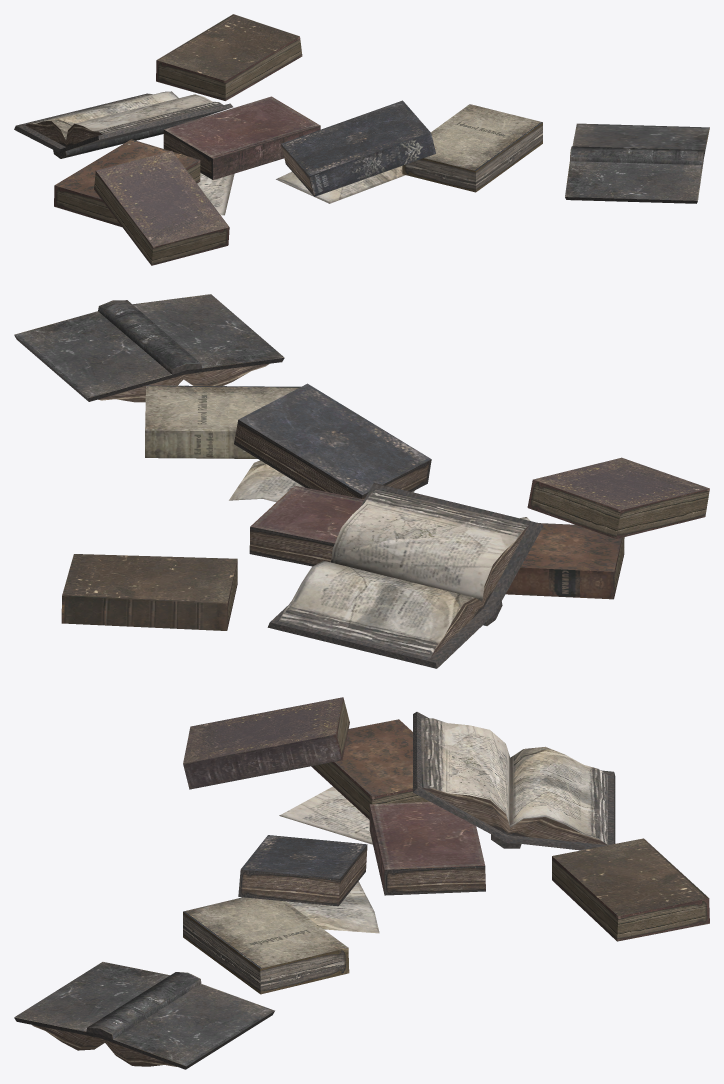
Rendered from p_glo_books_pile_lod0.glb.
3 renders of one model, top to bottom at view 1: azimuth 30°, elevation 25°; view 2: azimuth 150°, elevation 25°; view 3: azimuth 270°, elevation 25°, orthographic. The views are drawn at different scales.
Visible parts, largest first — view 1: surf0; view 2: surf0; view 3: surf0.
Part boxes in pixels (x1,y1,x2,y2): surf0: (14,14,709,265); surf0: (14,294,709,668); surf0: (14,697,709,1069).
Bounding box in the file's own units: 59.01 × 6.3 × 52.67.
